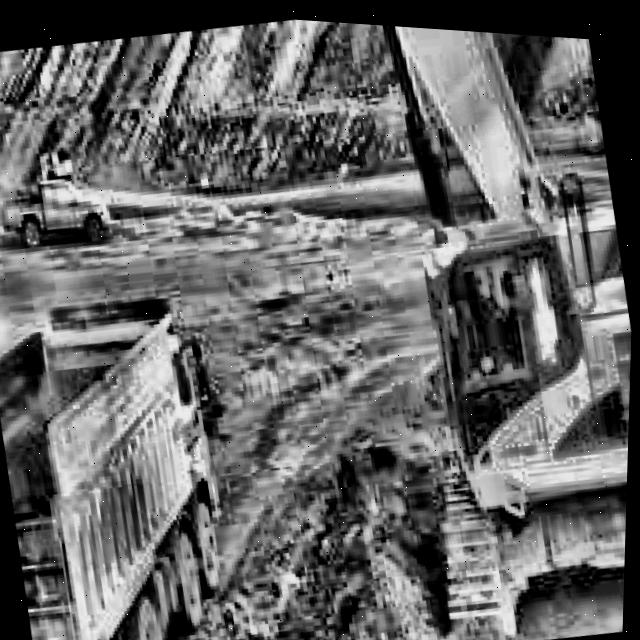dump_truck: (0, 257, 263, 640)
excavator: (0, 0, 640, 640)
